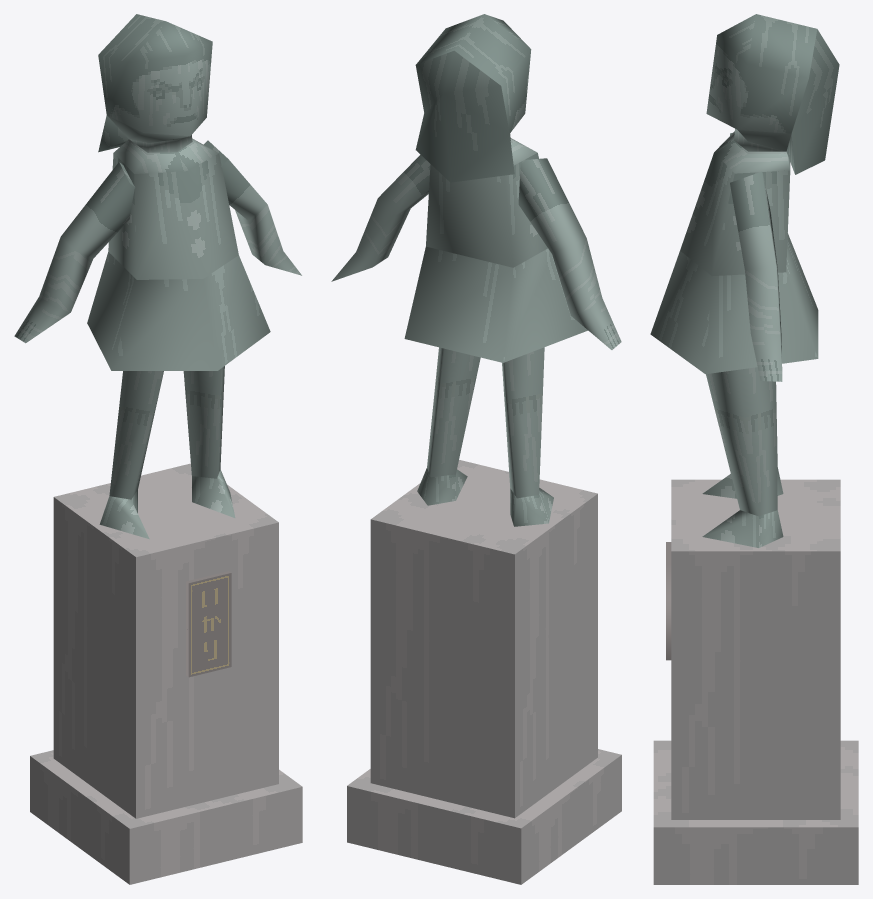
The model's file is 0434_Spirit_of_Anger.glb.
3 views of the same model, side by side, from view 1: azimuth 30°, elevation 25°; view 2: azimuth 150°, elevation 25°; view 3: azimuth 270°, elevation 25° (orthographic). The views are drawn at different scales.
Visible parts, largest first — view 1: part_0; view 2: part_0; view 3: part_0.
Boxes of the visible parts, x1,y1,x2,y2 form: part_0: (14, 14, 302, 884); part_0: (331, 14, 621, 884); part_0: (650, 14, 858, 884).
Size of the model in its own units: 1.25 by 3.45 by 0.7866.
1 material, 1 textured.
